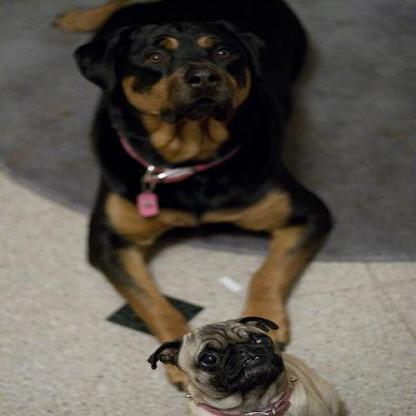Rottweiler: (45, 0, 332, 389)
